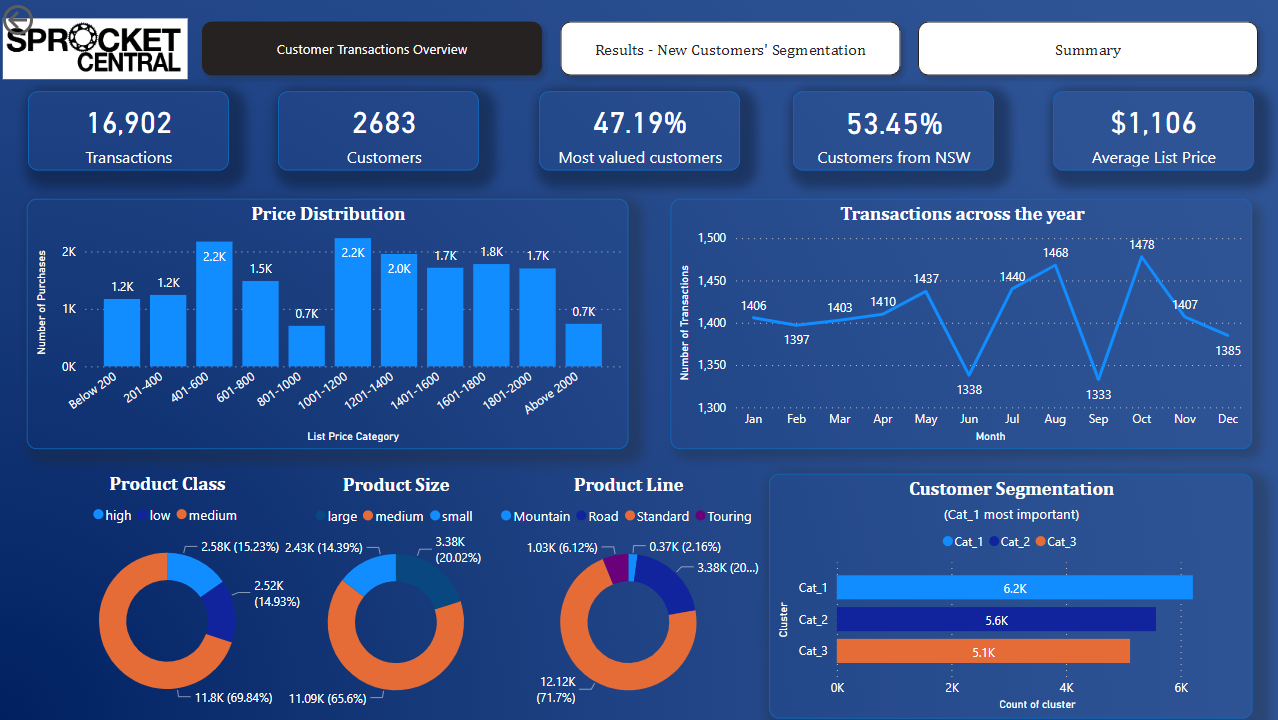

The page's visual inventory and layout, read from the dashboard file:
{"tool":"powerbi","page":{"name":"Customer Insights Dashboard","canvas":[1280,720],"ordinal":0},"visuals":[{"type":"image","box":[0,0,194.8,97.4],"z":0},{"type":"bookmarkNavigator","box":[194.8,12.5,1075.5,72.3],"z":1000},{"type":"actionButton","box":[0,0,100,40],"z":2000},{"type":"card","fields":{"Values":["CountNonNull(Combined Data.customer_id)"]},"box":[30.3,91.1,200.5,79.5],"z":3000},{"type":"lineChart","title":"Transactions across the year","fields":{"Category":["Combined Data.transaction_month"],"Y":["CountNonNull(Combined Data.customer_id)"]},"box":[672.3,199.3,581.9,250.6],"z":4000},{"type":"card","fields":{"Values":["Combined Data.Customers from NSW"]},"box":[795.5,91.1,200.5,79.5],"z":5000},{"type":"card","fields":{"Values":["Count(Combined Data.customer_id)"]},"box":[279.7,91.1,200.5,79.5],"z":6000},{"type":"card","fields":{"Values":["Avg(Combined Data.list_price)"]},"box":[1054.7,91.1,200.5,79.5],"z":7000},{"type":"columnChart","title":"Price Distribution","fields":{"Category":["Combined Data.list_price_categories"],"Y":["CountNonNull(Combined Data.list_price_categories)"]},"box":[29.3,199.3,601.4,250.6],"z":8000},{"type":"donutChart","title":"Product Class","fields":{"Y":["CountNonNull(Combined Data.product_class)"],"Category":["Combined Data.product_class"]},"box":[29.3,473.1,281.2,245.7],"z":9000},{"type":"donutChart","title":"Product Size","fields":{"Category":["Combined Data.product_size"],"Y":["CountNonNull(Combined Data.product_size)"]},"box":[257.9,474.3,281.2,245.7],"z":10000},{"type":"donutChart","title":"Product Line","fields":{"Category":["Combined Data.product_line"],"Y":["CountNonNull(Combined Data.product_line)"]},"box":[490.2,474.3,281.2,245.7],"z":11000},{"type":"barChart","title":"Customer Segmentation","fields":{"Category":["Combined Data.cluster"],"Series":["Combined Data.cluster"],"Y":["CountNonNull(Combined Data.cluster)"]},"box":[771.3,474.3,482.9,244.5],"z":12000},{"type":"card","fields":{"Values":["Combined Data.Primary focus customers"]},"box":[541.3,91.1,200.5,79.5],"z":13000}]}

Visuals, with their boxes in screenshot pixels (x1, y1, x2, y2), scaled from the page's 1280x720 canvas onto the 1278x720 screenshot:
image: [left=0, top=0, right=194, bottom=97]
bookmarkNavigator: [left=194, top=12, right=1268, bottom=85]
actionButton: [left=0, top=0, right=100, bottom=40]
card - CountNonNull(Combined Data.customer_id): [left=30, top=91, right=230, bottom=171]
"Transactions across the year" lineChart: [left=671, top=199, right=1252, bottom=450]
card - Combined Data.Customers from NSW: [left=794, top=91, right=994, bottom=171]
card - Count(Combined Data.customer_id): [left=279, top=91, right=479, bottom=171]
card - Avg(Combined Data.list_price): [left=1053, top=91, right=1253, bottom=171]
"Price Distribution" columnChart: [left=29, top=199, right=630, bottom=450]
"Product Class" donutChart: [left=29, top=473, right=310, bottom=719]
"Product Size" donutChart: [left=257, top=474, right=538, bottom=719]
"Product Line" donutChart: [left=489, top=474, right=770, bottom=719]
"Customer Segmentation" barChart: [left=770, top=474, right=1252, bottom=719]
card - Combined Data.Primary focus customers: [left=540, top=91, right=741, bottom=171]
